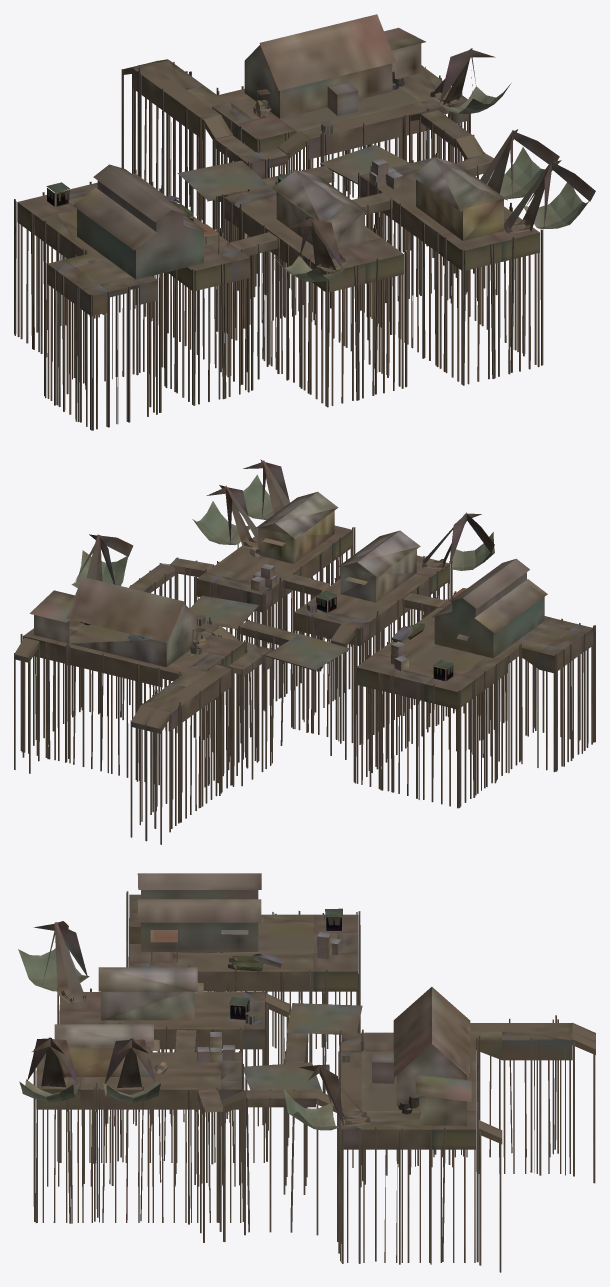
Rendered from fishing_village_a-map.glb.
The picture shows the model from 3 angles, top to bottom: view 1: azimuth 30°, elevation 25°; view 2: azimuth 150°, elevation 25°; view 3: azimuth 270°, elevation 25°; orthographic projection. The views are drawn at different scales.
Visible parts, largest first — view 1: fishing_village_a_hlod; view 2: fishing_village_a_hlod; view 3: fishing_village_a_hlod.
Part boxes in pixels (left/top/right/bottom): fishing_village_a_hlod: left=14, top=14, right=595, bottom=430; fishing_village_a_hlod: left=14, top=459, right=595, bottom=844; fishing_village_a_hlod: left=18, top=873, right=595, bottom=1272.
Bounding box in the file's own units: 74.61 × 29.56 × 74.54.
Materials: 1 (1 with a texture image).
